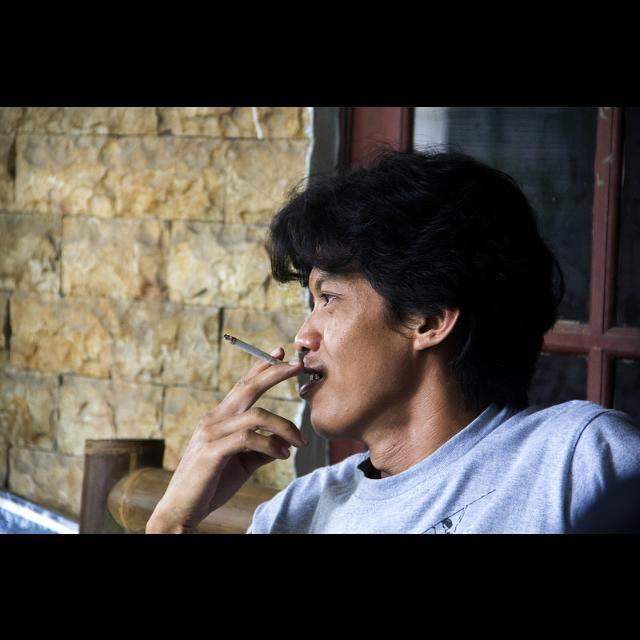rokok: (219, 326, 291, 374)
